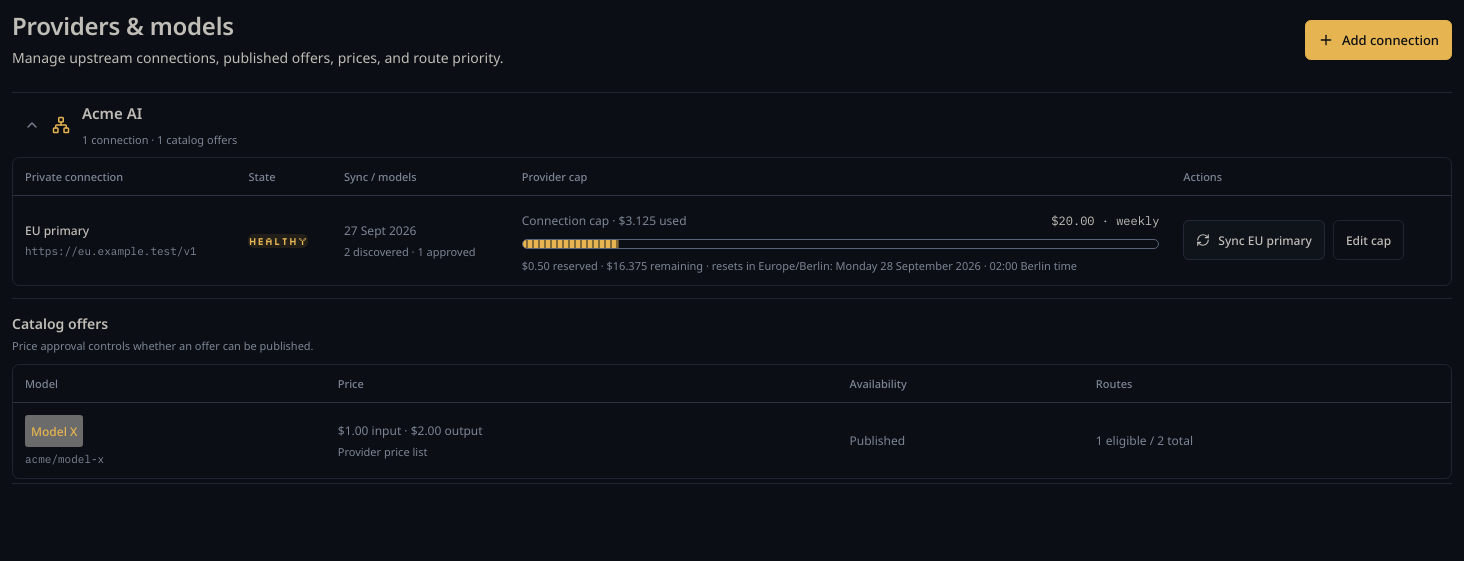
Task 8 operator interface › shows_sync_error_without_erasing_existing_models
The width and height of the screenshot is (1464, 561).
Check: the text "Model X" is shown, box [31,423,77,440]
Click the button "Sync EU primary" at (1254, 240), box [1183,220,1325,260]
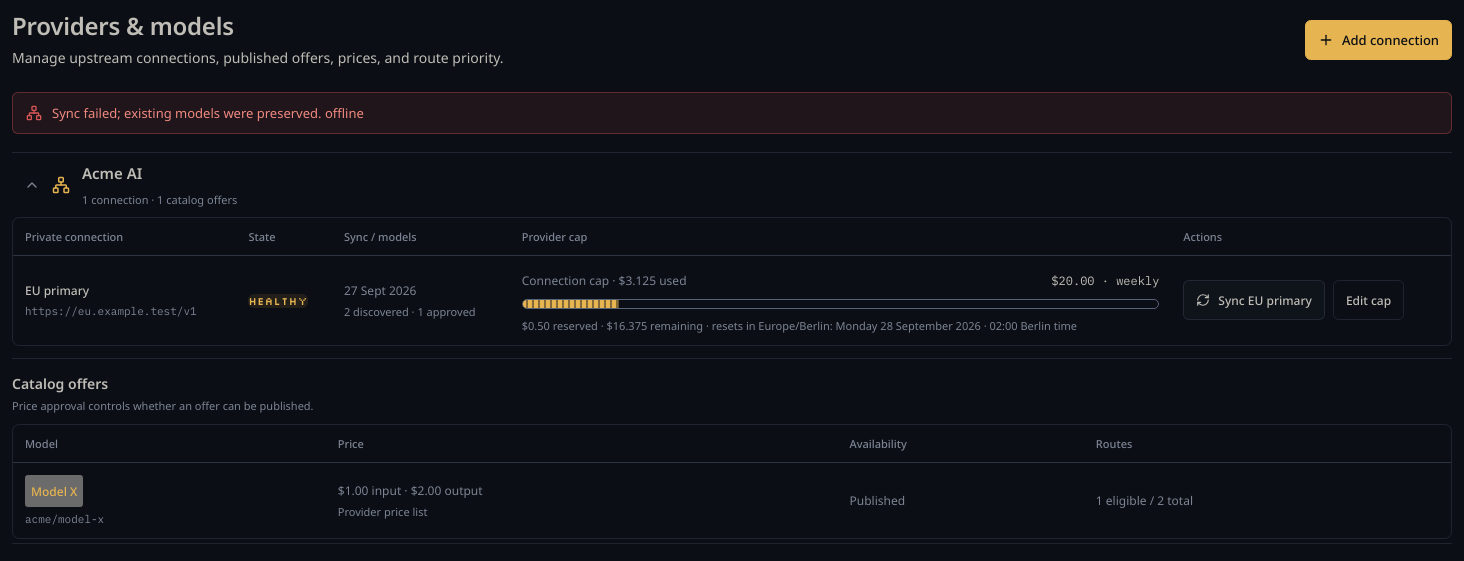
Check: the text "Model X" is shown, box [31,483,77,500]
Check: the message shows "Sync failed", box [52,104,364,122]
